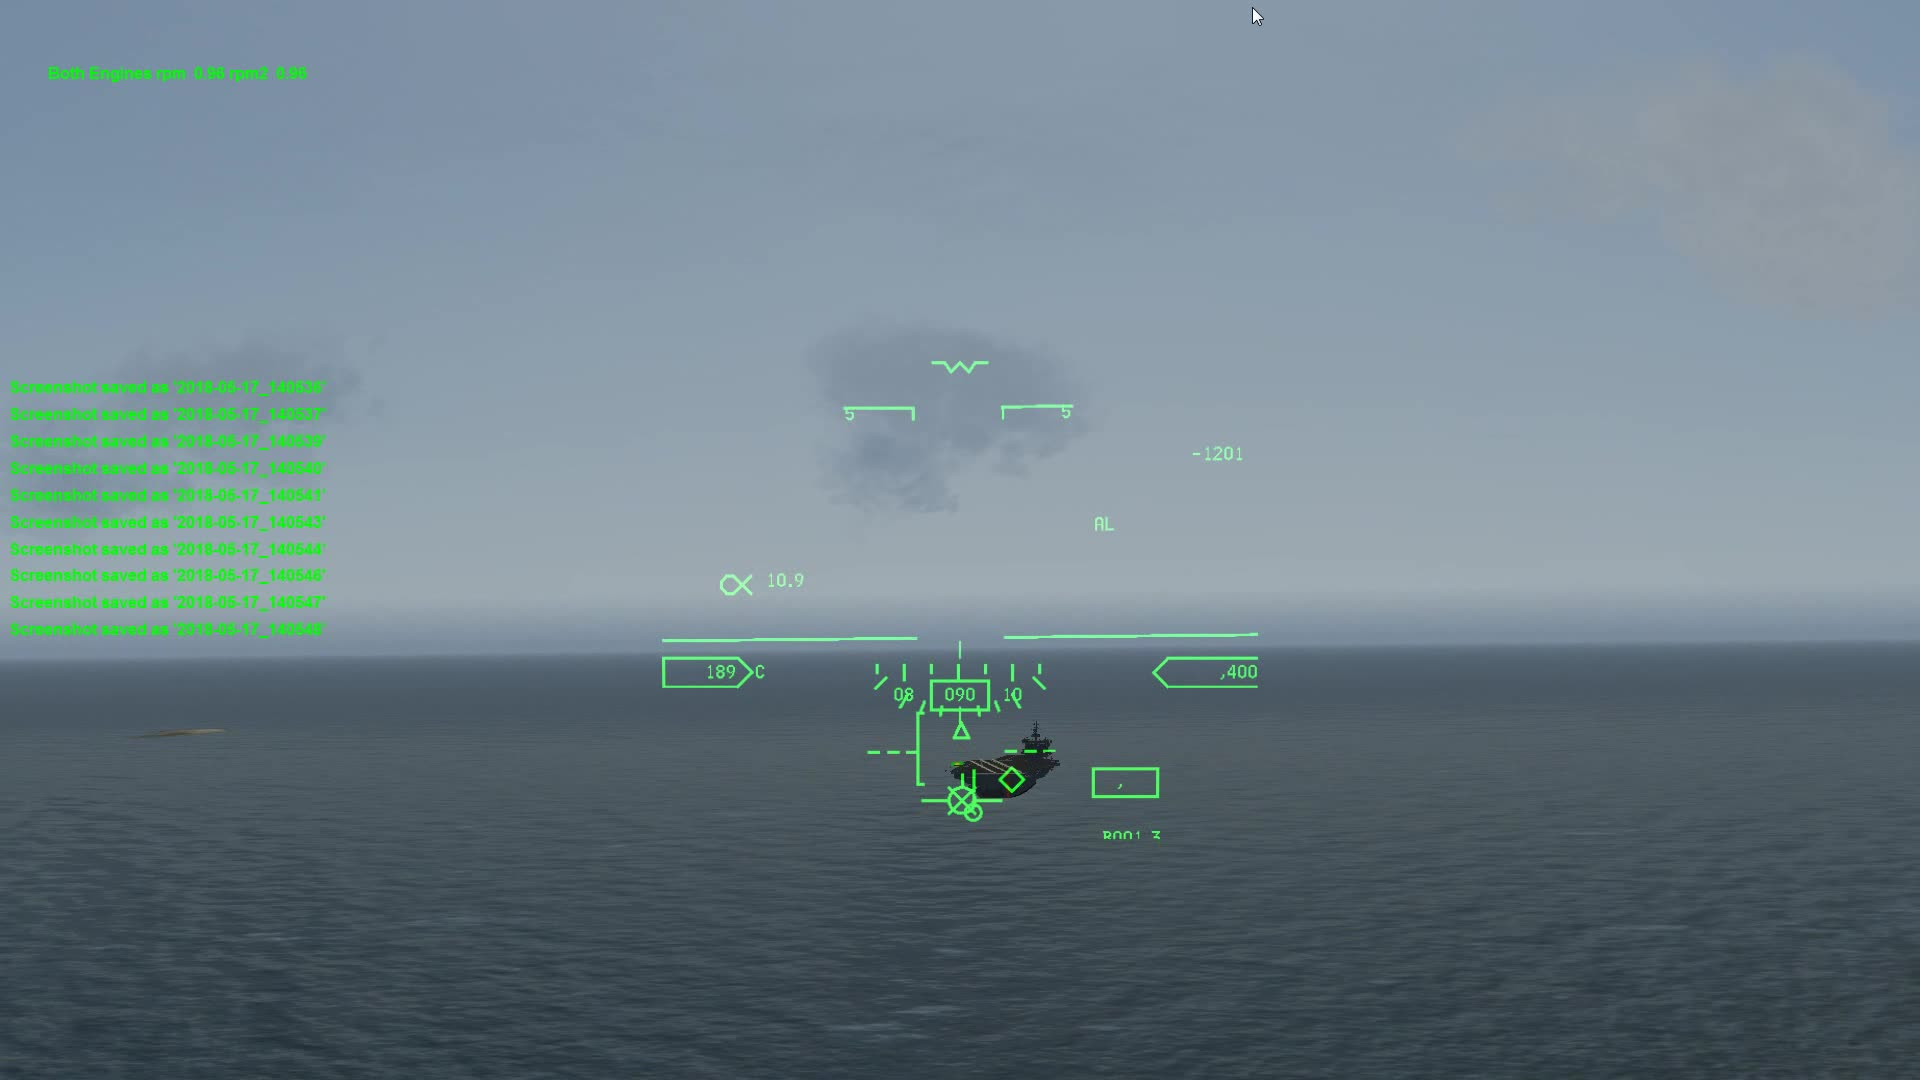speed vector: (918, 781, 1002, 816)
